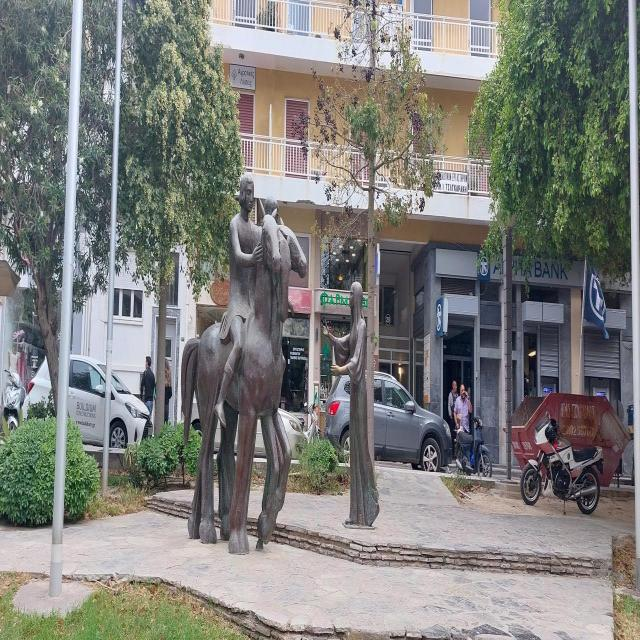Aretousa: (182, 175, 381, 557)
